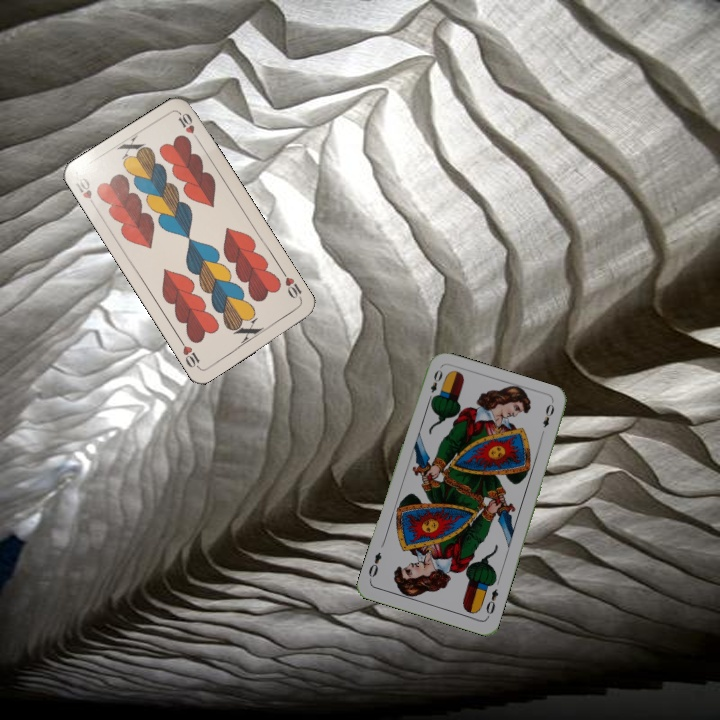EO: (424, 366, 445, 404), (482, 585, 501, 620)
H10: (72, 173, 99, 211), (278, 267, 305, 304)
